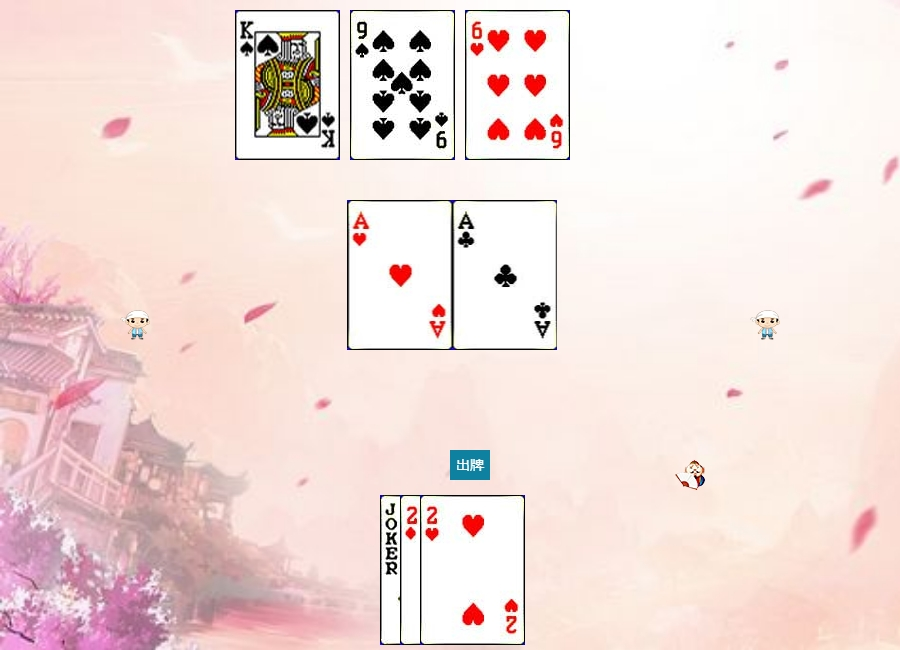13~4: (235, 10, 340, 160)
14~2: (453, 200, 558, 350)
14~3: (348, 200, 453, 350)
15~1: (400, 495, 505, 645)
15~3: (420, 495, 525, 645)
17~3: (380, 495, 485, 645)
6~3: (465, 10, 570, 160)
9~4: (350, 10, 455, 160)
